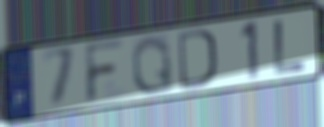1: (239, 18, 261, 83)
7: (40, 47, 77, 112)
D: (176, 26, 219, 92)
F: (83, 36, 128, 107)
L: (271, 17, 309, 77)
Q: (130, 33, 175, 98)
